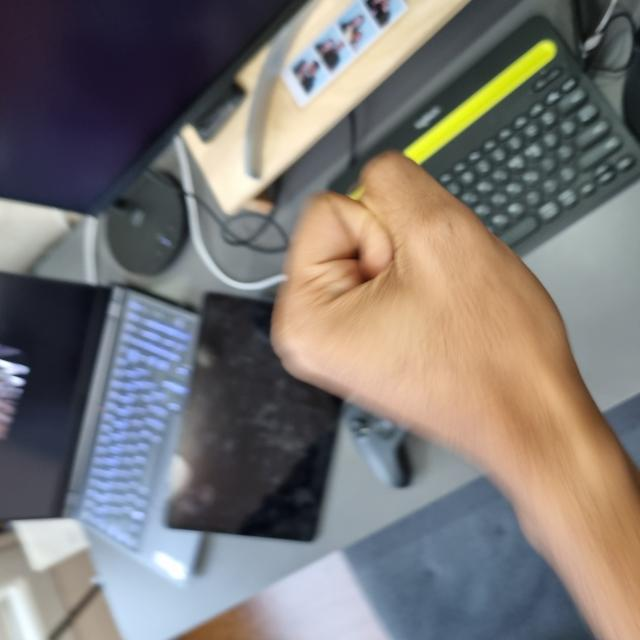Rock: (166, 270, 487, 579)
